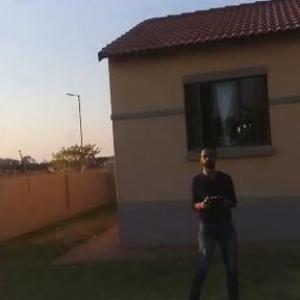follow: (171, 136, 243, 299)
